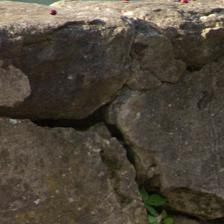Crack: (26, 56, 109, 169), (104, 63, 160, 105)
